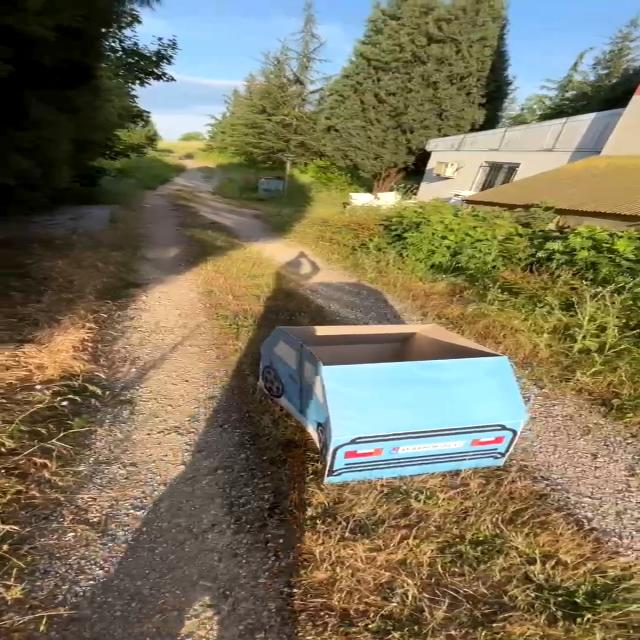blue_car: (178, 282, 583, 499)
